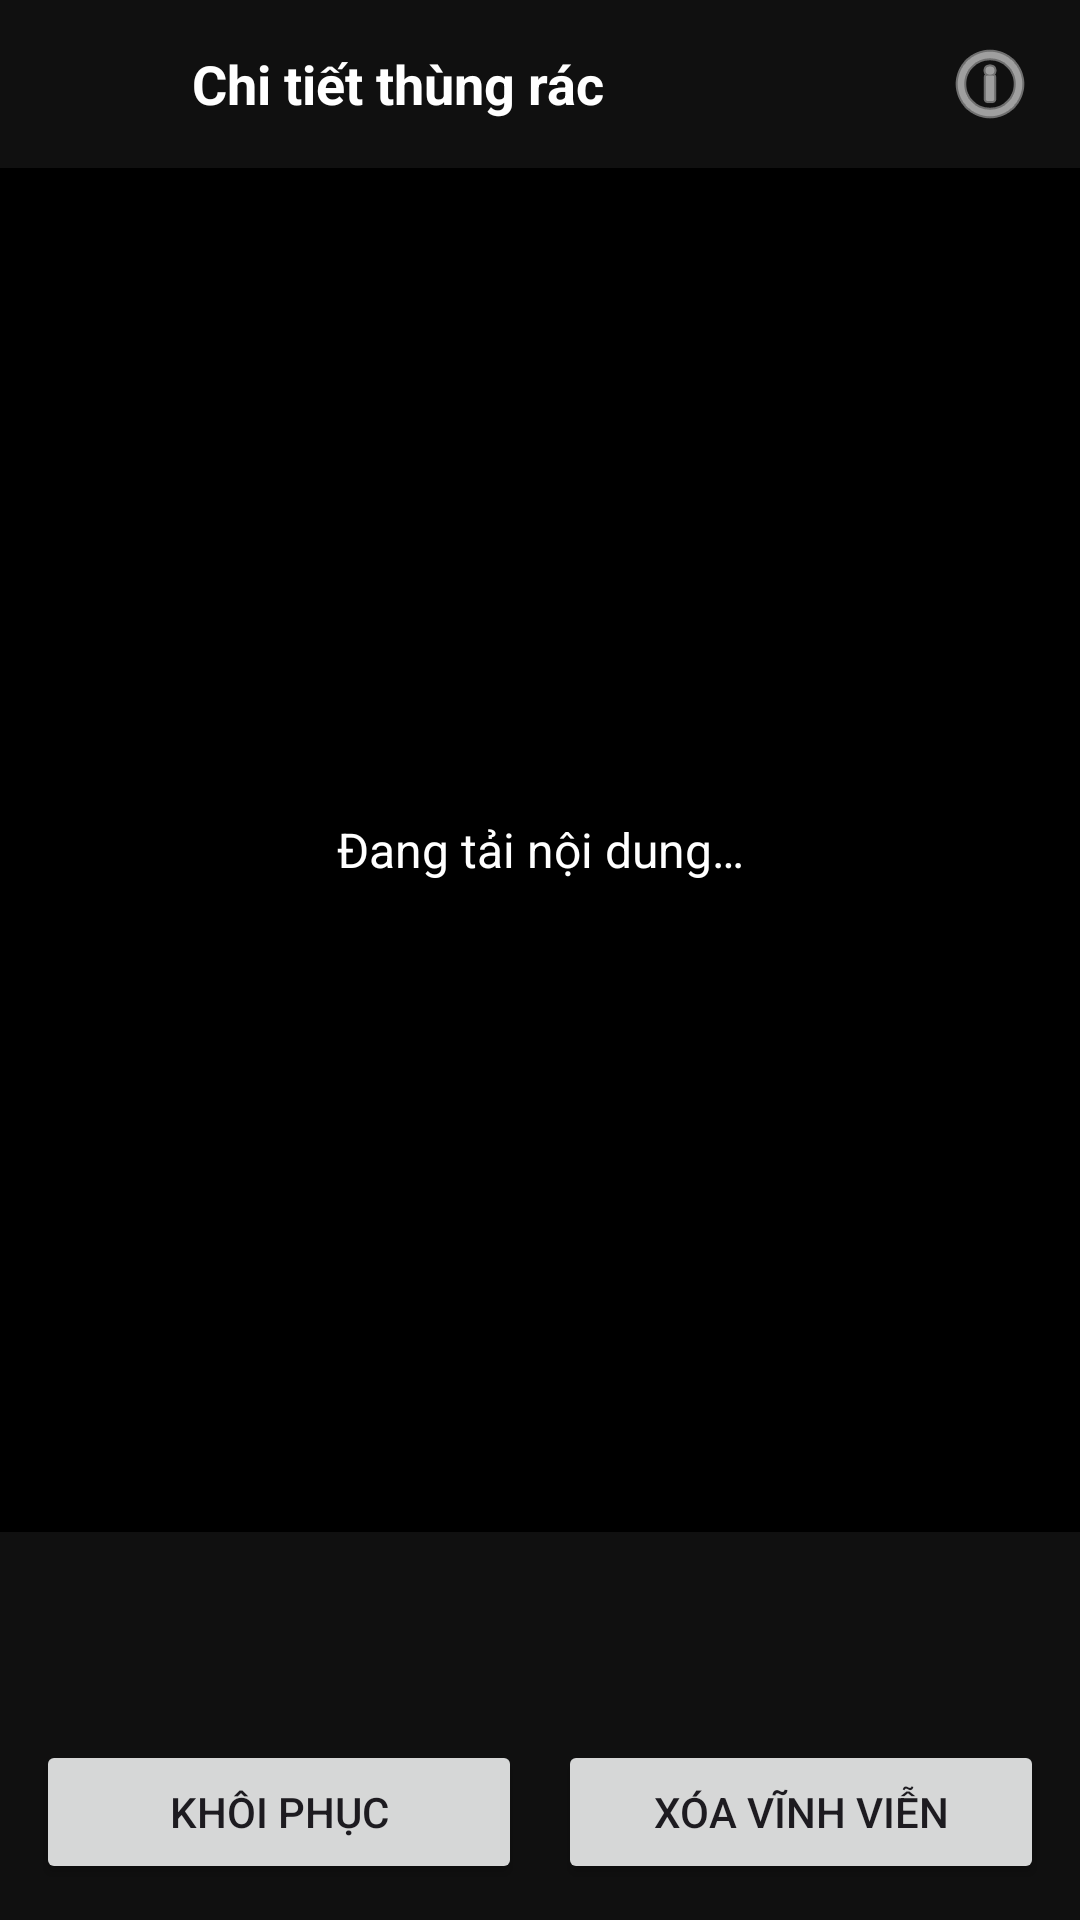

Icon bounding boxes for this 1080 × 1920 phone screenshot, format (x1, y1, x2, y2):
Xem thông tin: (955, 49, 1025, 119)
